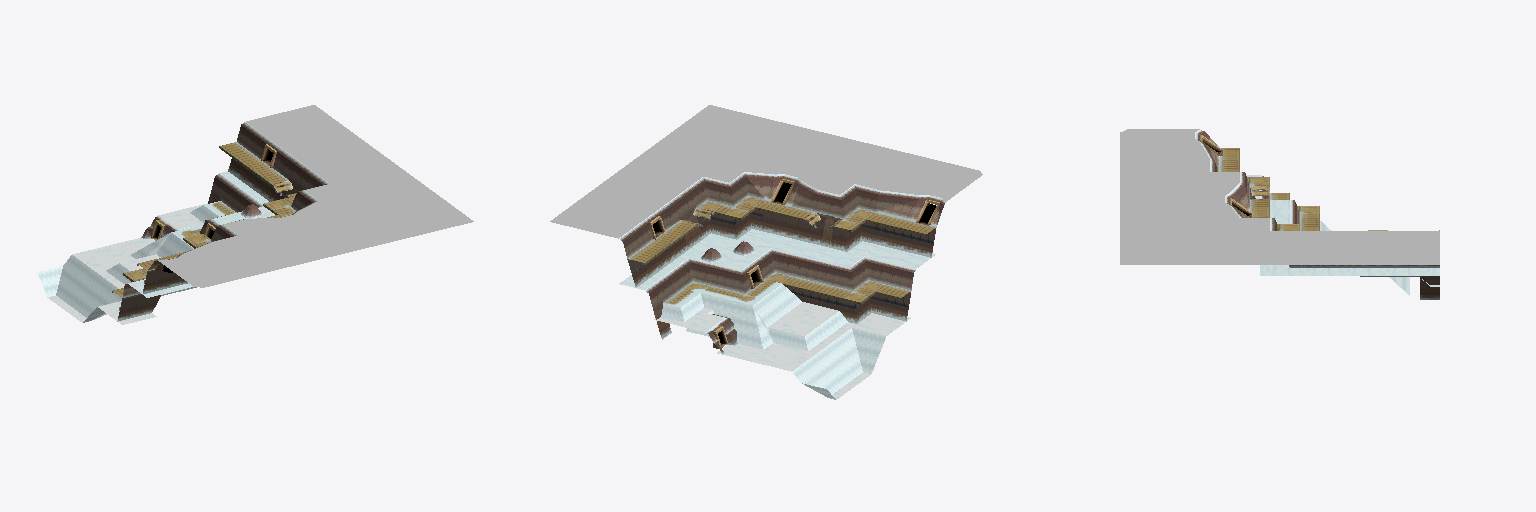
The picture shows the model from 3 angles: view 1: azimuth 30°, elevation 25°; view 2: azimuth 150°, elevation 25°; view 3: azimuth 270°, elevation 25°; orthographic projection.
Parts seen in each view (by area): view 1: polygon21, polygon0, polygon1, polygon5, polygon11, polygon12, polygon2, polygon24, polygon6; view 2: polygon21, polygon0, polygon9, polygon1, polygon11, polygon24, polygon12, polygon5, polygon8, polygon6, polygon2, polygon10 (+6 smaller); view 3: polygon21, polygon24, polygon12, polygon8, polygon9.
Boxes of the visible parts, box(x1,y1,x2,y2) form: polygon21: box(158, 105, 473, 287); polygon0: box(38, 205, 218, 322); polygon1: box(47, 203, 207, 324); polygon5: box(200, 125, 322, 241); polygon11: box(117, 269, 196, 321); polygon12: box(113, 142, 294, 296); polygon2: box(178, 122, 329, 236); polygon24: box(128, 171, 274, 297); polygon6: box(228, 159, 285, 201); polygon21: box(550, 105, 982, 238); polygon0: box(661, 284, 885, 399); polygon9: box(692, 177, 943, 293); polygon1: box(654, 302, 910, 399); polygon11: box(708, 210, 936, 323); polygon24: box(619, 229, 935, 289); polygon12: box(628, 200, 935, 297); polygon5: box(623, 177, 867, 302); polygon8: box(690, 172, 946, 333); polygon6: box(627, 212, 871, 323); polygon2: box(619, 172, 865, 319); polygon10: box(667, 279, 781, 304); polygon21: box(1120, 129, 1439, 264); polygon24: box(1246, 175, 1439, 275); polygon12: box(1220, 148, 1319, 230); polygon8: box(1195, 130, 1294, 230); polygon9: box(1201, 132, 1299, 230).
Bounding box in the file's own units: 8 × 3.25 × 8.
30 materials, 29 textured.